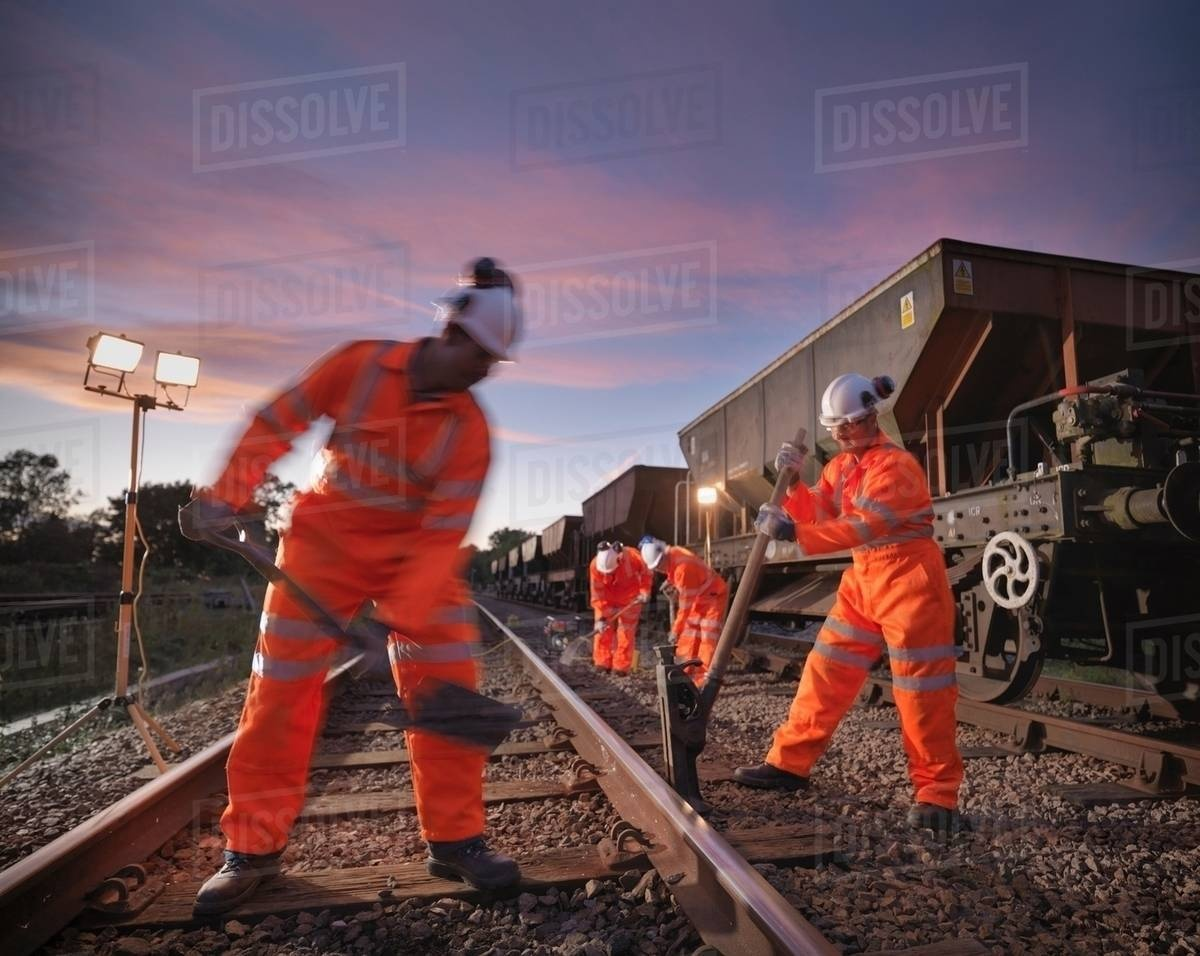white: (414, 272, 526, 398), (811, 368, 888, 454), (592, 539, 626, 577), (639, 537, 673, 573)
